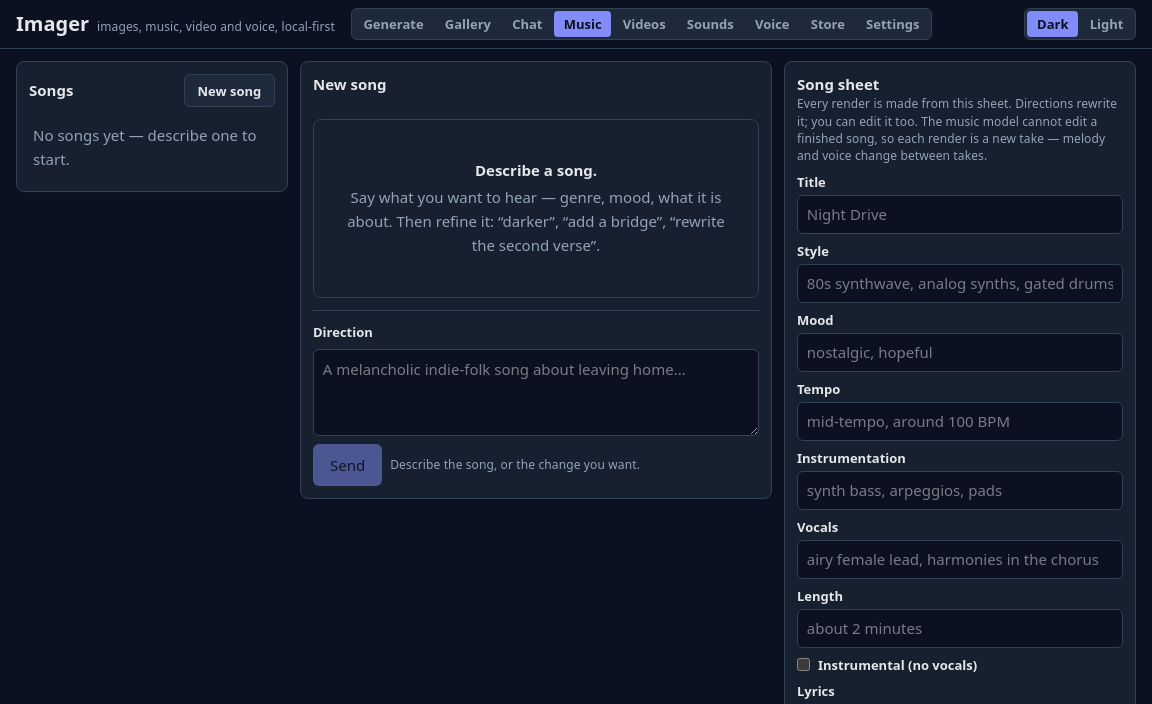
Test: a writer that reads NO change renders nothing and says so — no money spent on a question
The image size is (1152, 704).
Step 1. Type "synthwave night drive" into the text box labelled "Direction" → (536, 393), box [313, 349, 759, 436]
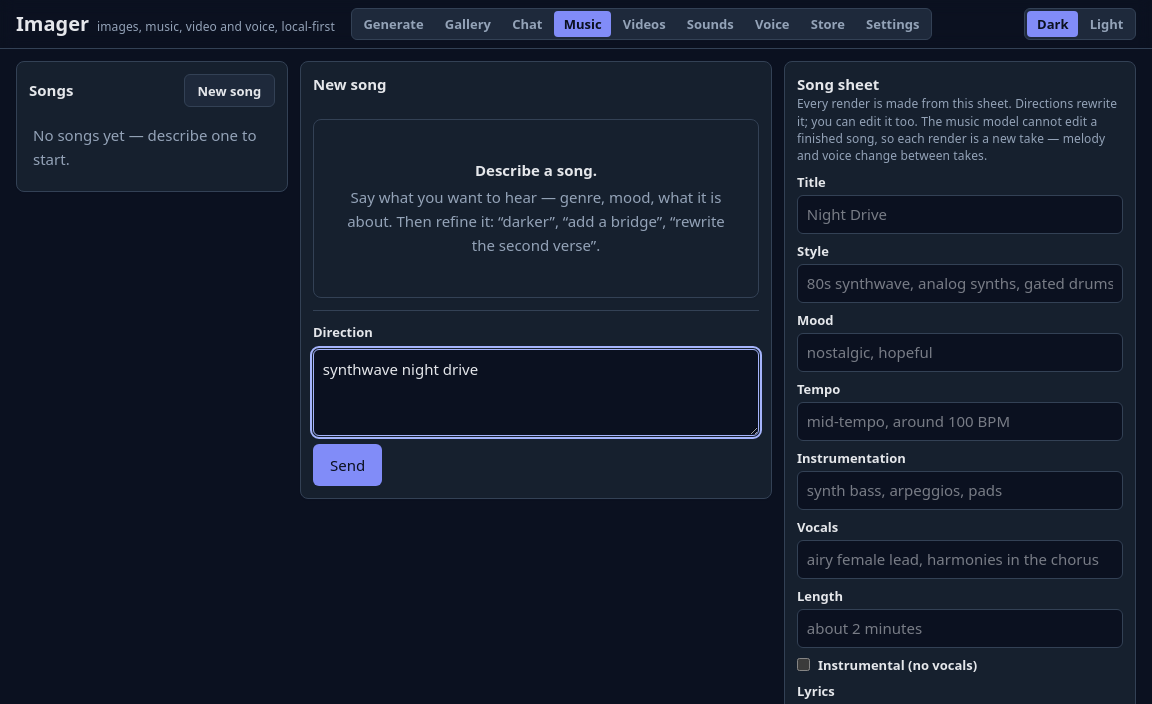
Step 2. Click the button "Send" → (348, 465), box [313, 444, 382, 486]
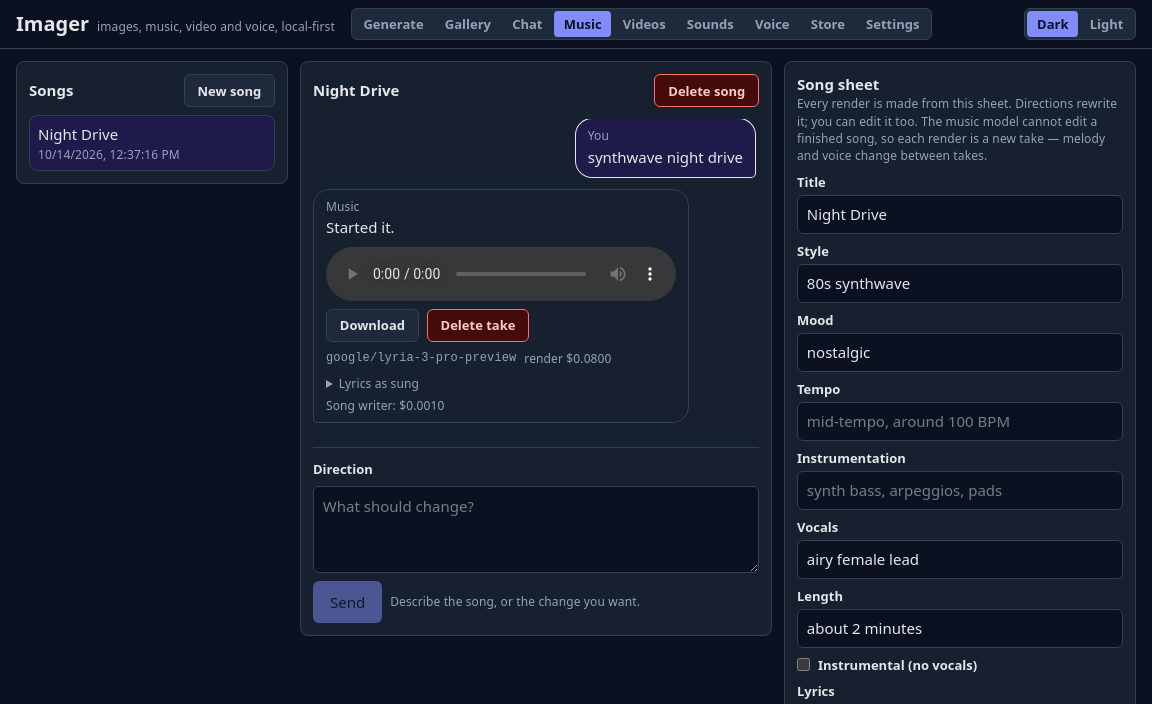
Check: the element named "Play Night Drive" is shown, box [326, 247, 676, 301]
Step 3. Type "what key is it in?" into the text box labelled "Direction" → (536, 530), box [313, 486, 759, 573]
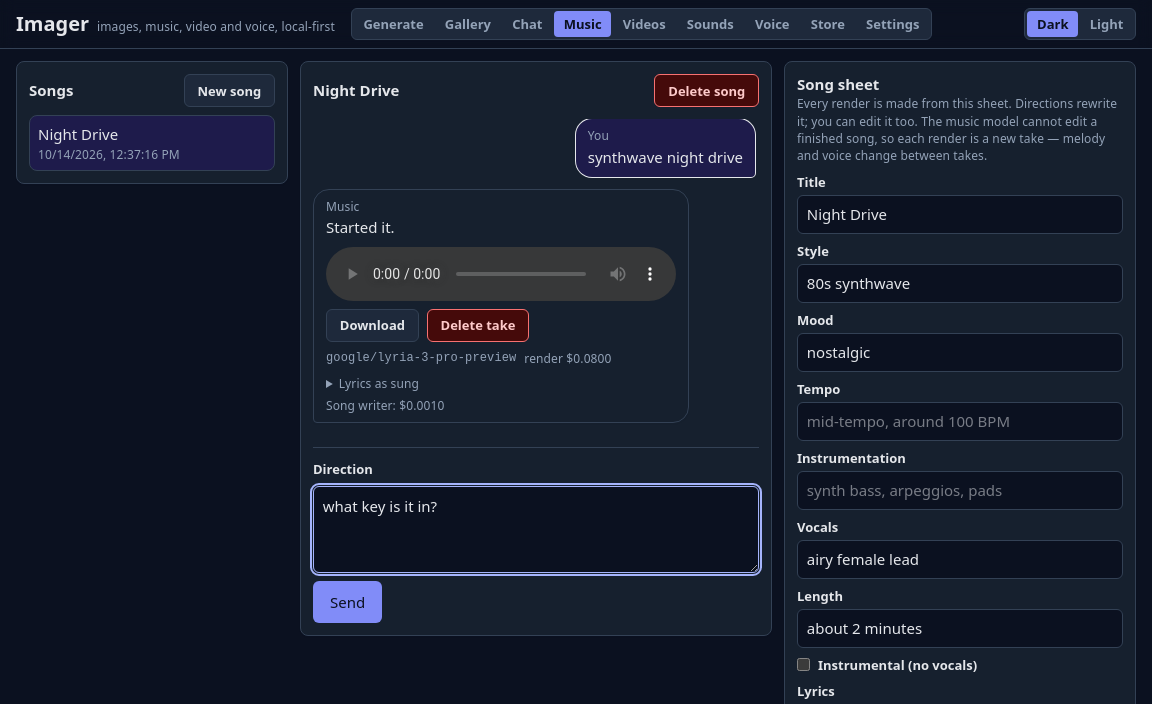
Step 4. Click the button "Send" → (348, 602), box [313, 581, 382, 623]
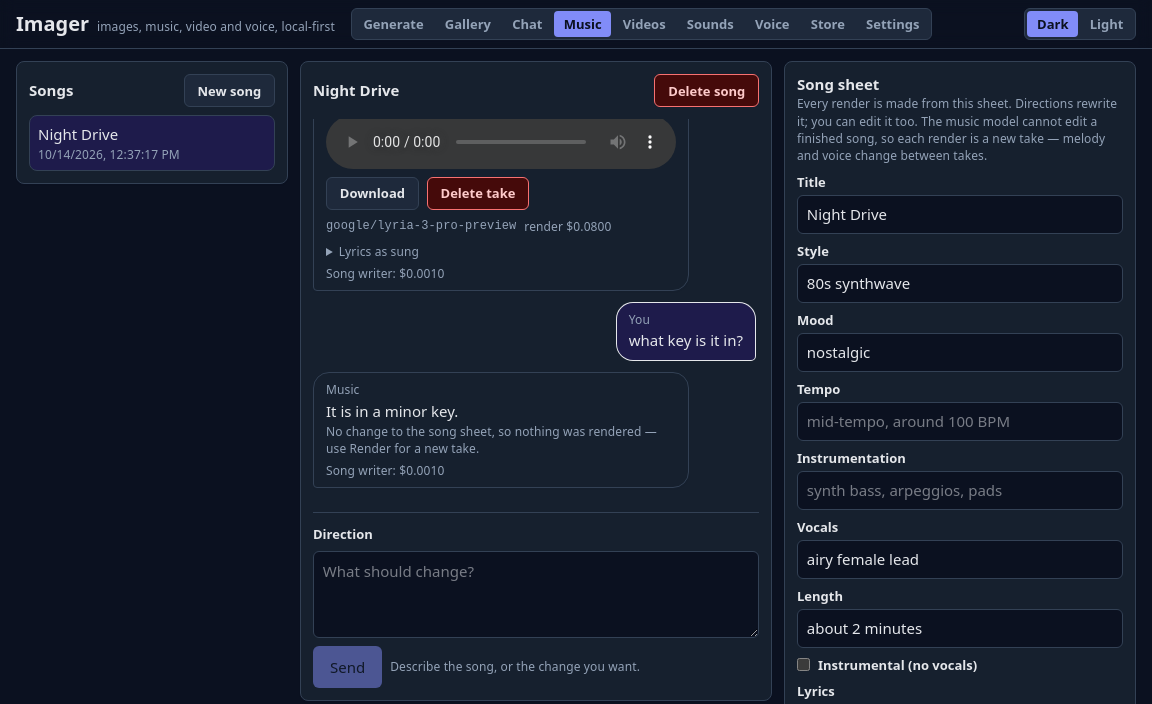
Check: the field labelled "Title" holds "Night Drive", box [797, 195, 1123, 234]
Check: the text "It is in a minor key." is shown, box [326, 401, 458, 421]
Check: the text "No change to the song sheet, so nothing was rendered" is shown, box [326, 423, 657, 457]
